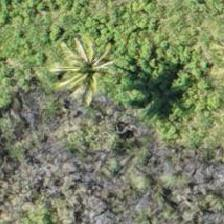coconut_tree: (40, 22, 130, 112)
